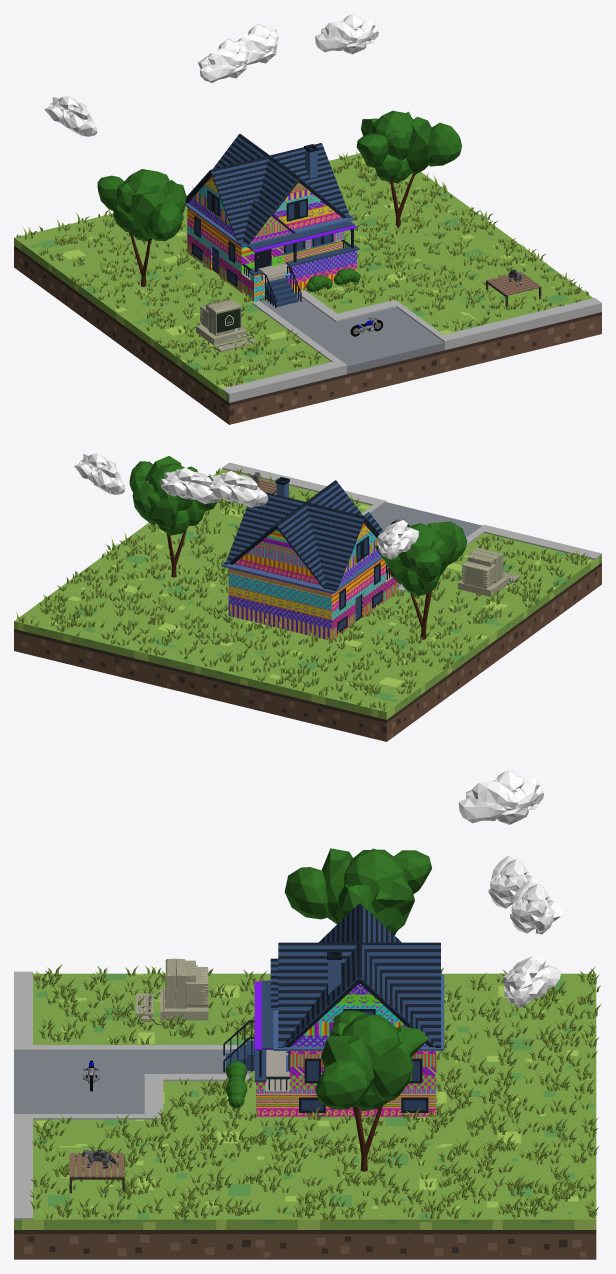
3 views of the same model, one above another, from view 1: azimuth 30°, elevation 25°; view 2: azimuth 150°, elevation 25°; view 3: azimuth 270°, elevation 25° (orthographic). The views are drawn at different scales.
Visible parts, largest first — view 1: Cube.006, Cube.676, Circle.012_Grass_0.192, Cube.007, tree, tree.001, OBJRANDOM_RETRO_PC, Cube.009; view 2: Cube.006, Cube.676, Circle.012_Grass_0.192, Cube.007, tree.001, tree, OBJRANDOM_RETRO_PC; view 3: Cube.006, Circle.012_Grass_0.192, Cube.676, tree, Cube.007, tree.001, OBJRANDOM_RETRO_PC, Cube.009.
Part boxes in pixels (x1,y1,x2,y2): Cube.006: (14,153,601,424); Cube.676: (185,134,359,307); Circle.012_Grass_0.192: (16,150,588,386); Cube.007: (44,14,378,136); tree: (356,110,461,228); tree.001: (97,169,186,286); OBJRANDOM_RETRO_PC: (196,299,255,352); Cube.009: (486,272,541,306); Cube.006: (14,462,601,741); Cube.676: (221,477,398,640); Circle.012_Grass_0.192: (16,468,588,711); Cube.007: (74,453,418,559); tree.001: (375,521,467,639); tree: (129,456,216,577); OBJRANDOM_RETRO_PC: (458,548,520,596); Cube.006: (14,971,596,1259); Circle.012_Grass_0.192: (29,964,601,1220); Cube.676: (223,903,444,1116); tree: (315,1010,428,1171); Cube.007: (458,770,561,1007); tree.001: (284,848,432,935); OBJRANDOM_RETRO_PC: (135,958,208,1025); Cube.009: (69,1153,124,1193).
Bounding box in the file's own units: 4071 × 2179 × 4040.
33 materials, 7 textured.
